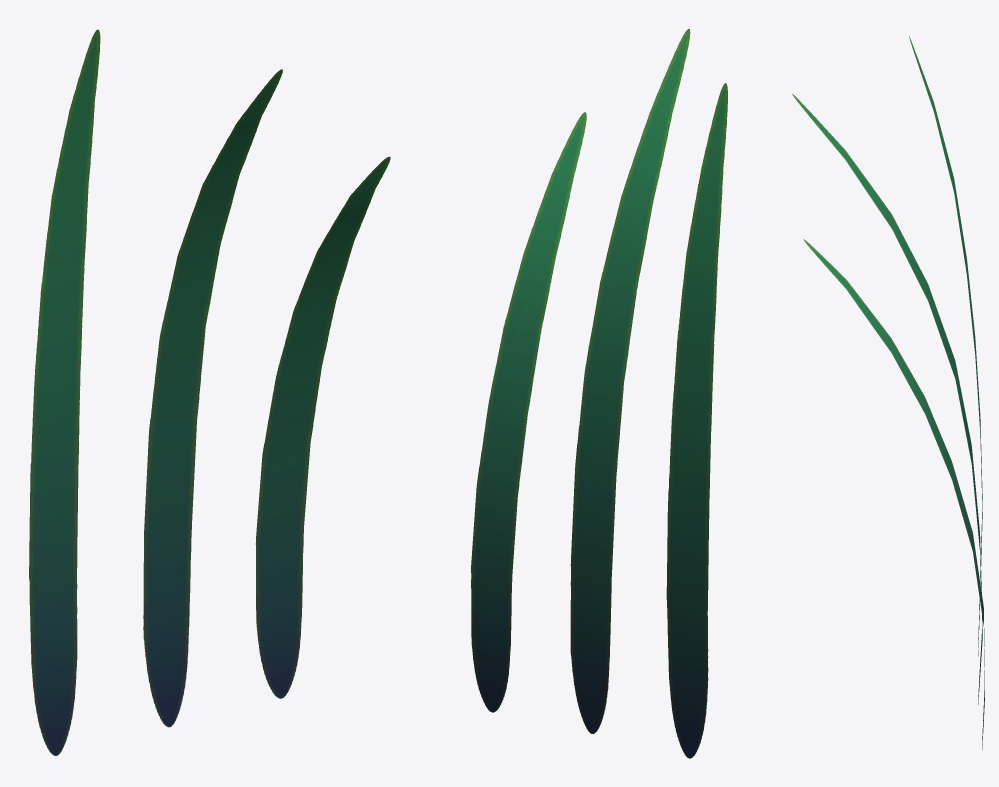
File: grass_blades.glb
The picture shows the model from 3 angles, left to right: view 1: azimuth 30°, elevation 25°; view 2: azimuth 150°, elevation 25°; view 3: azimuth 270°, elevation 25°; orthographic projection. The views are drawn at different scales.
Parts seen in each view (by area): view 1: Grass:Grass_low3_Grass:Grass_MAT_0, Grass:Grass_low1_Grass:Grass_MAT_0, Grass:Grass_low2_Grass:Grass_MAT_0; view 2: Grass:Grass_low1_Grass:Grass_MAT_0, Grass:Grass_low3_Grass:Grass_MAT_0, Grass:Grass_low2_Grass:Grass_MAT_0; view 3: Grass:Grass_low1_Grass:Grass_MAT_0, Grass:Grass_low2_Grass:Grass_MAT_0, Grass:Grass_low3_Grass:Grass_MAT_0.
Boxes of the visible parts, x1,y1,x2,y2 form: Grass:Grass_low3_Grass:Grass_MAT_0: (29,29,100,755); Grass:Grass_low1_Grass:Grass_MAT_0: (143,69,282,727); Grass:Grass_low2_Grass:Grass_MAT_0: (255,156,390,698); Grass:Grass_low1_Grass:Grass_MAT_0: (570,29,690,734); Grass:Grass_low3_Grass:Grass_MAT_0: (666,83,727,758); Grass:Grass_low2_Grass:Grass_MAT_0: (471,112,586,712); Grass:Grass_low1_Grass:Grass_MAT_0: (792,94,982,704); Grass:Grass_low2_Grass:Grass_MAT_0: (803,239,984,750); Grass:Grass_low3_Grass:Grass_MAT_0: (909,36,982,656).
Bounding box in the file's own units: 0.2065 × 0.5 × 0.1401.
1 material, 1 textured.
